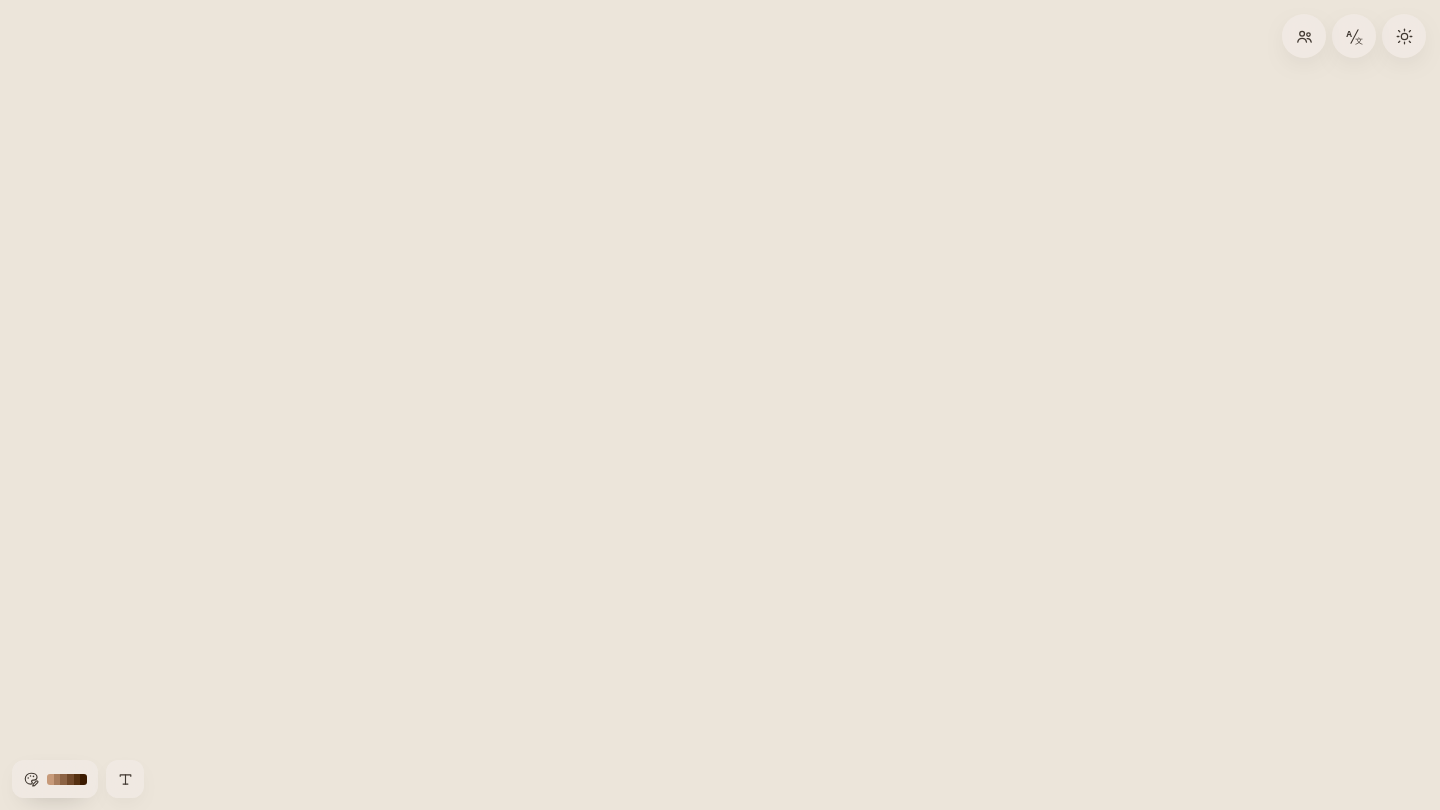
Test case: the community button cycles through three states › second click: still pressed, the board closes and only the aggregate cloud remains
Click the button with class "community-quick": (1304, 36) [1282,14,1326,58]
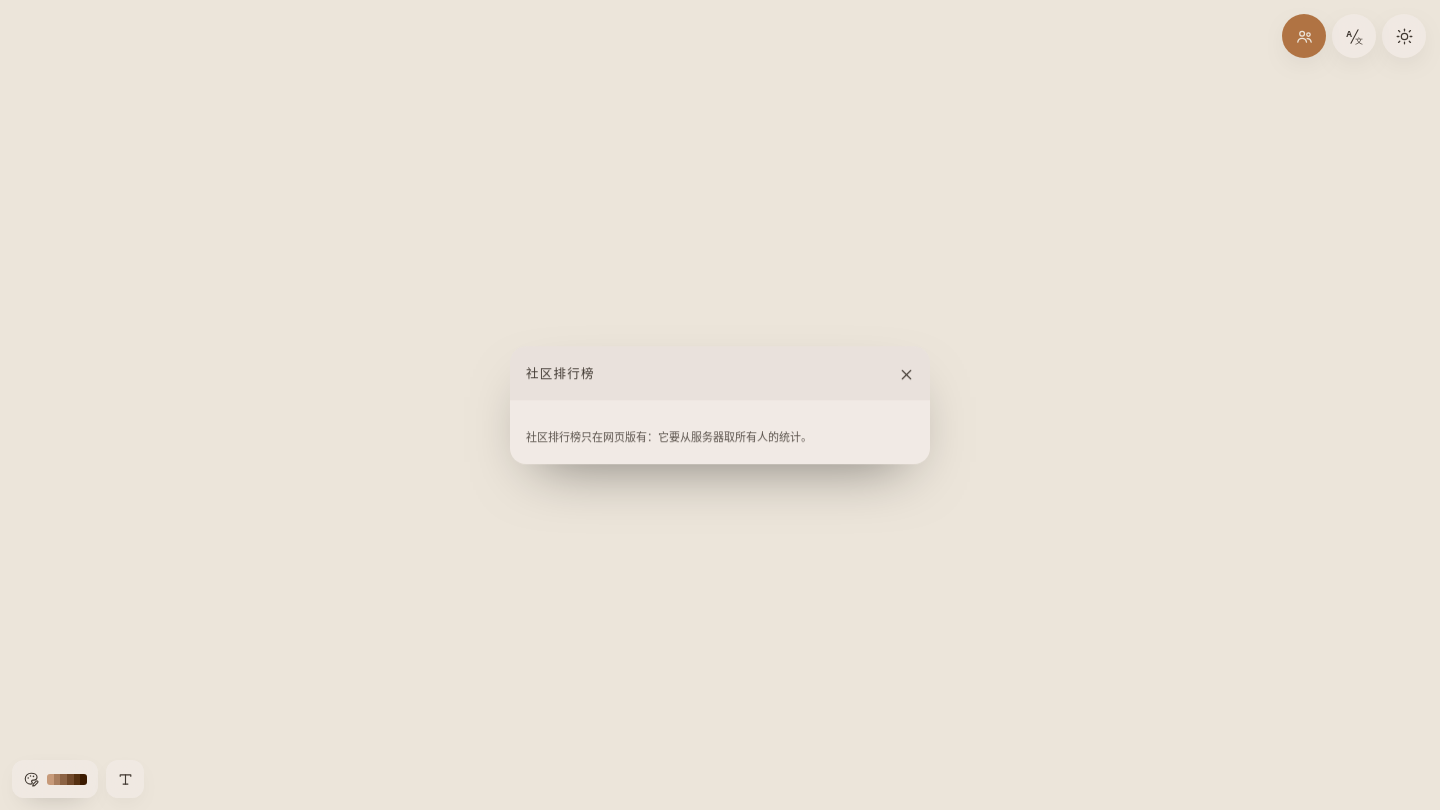
Expected: the dialog "社区排行榜" is shown, [510,346,930,464]
Click the button with class "community-quick": (1304, 36) [1282,14,1326,58]
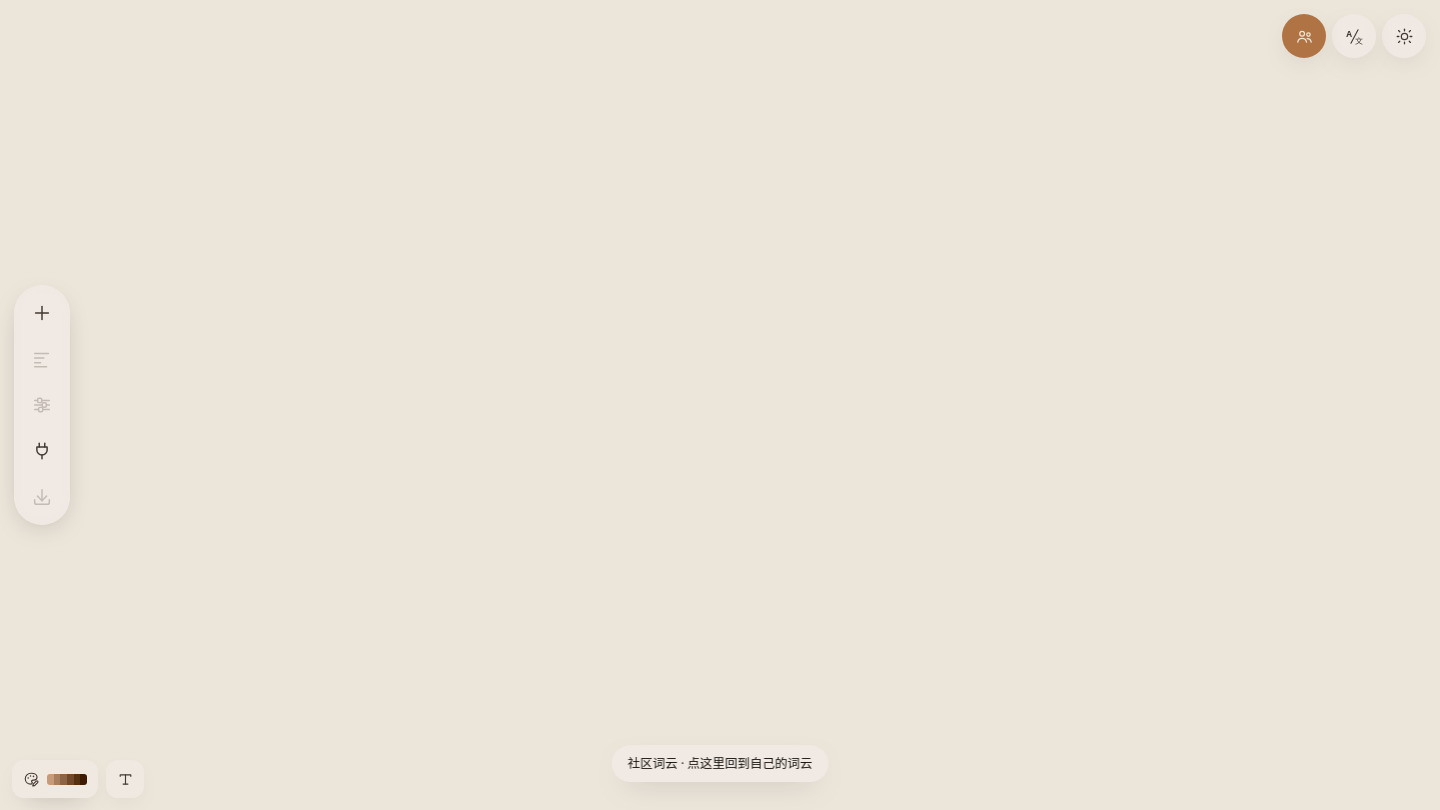
Expected: the text "社区排行榜" is gone
Expected: the button "社区词云 · 点这里回到自己的词云" is shown, [612,745,828,782]
